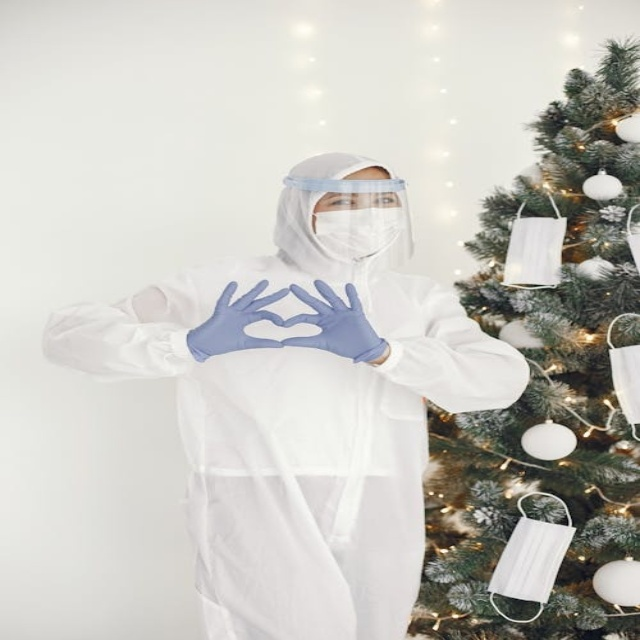Guantes: (280, 279, 387, 364), (186, 278, 292, 362)
Mascara: (314, 208, 403, 259)
Sin_gafas: (323, 195, 401, 209)
